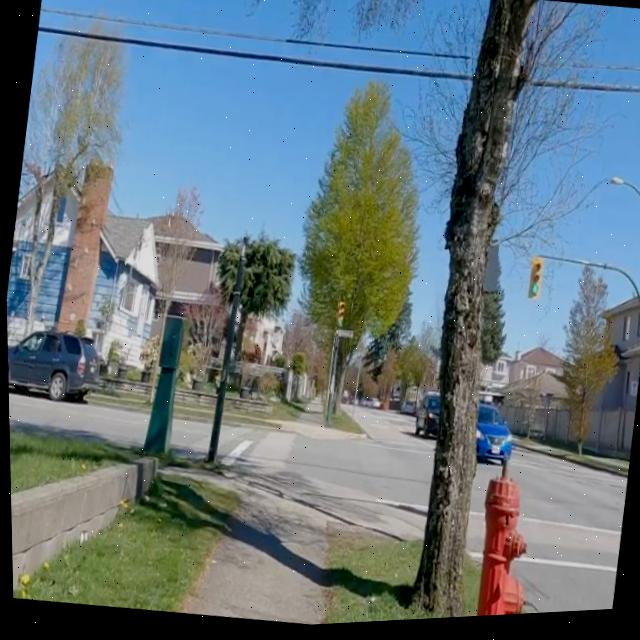Automobile: (6, 330, 96, 402), (475, 407, 511, 466), (412, 397, 437, 440)
Obstacle: (411, 1, 538, 622), (10, 477, 237, 614), (9, 459, 154, 587), (321, 535, 474, 627), (205, 239, 245, 463), (7, 426, 137, 492), (473, 466, 523, 621), (141, 311, 182, 456), (93, 380, 147, 408), (223, 398, 270, 420), (175, 390, 212, 417), (328, 413, 360, 435), (268, 407, 309, 423)
Road: (217, 407, 430, 533), (243, 412, 432, 544), (509, 454, 625, 618), (7, 391, 147, 448), (464, 469, 496, 557), (219, 428, 276, 449), (173, 422, 208, 455)
Sidewalk: (164, 467, 417, 628), (277, 397, 360, 444)
